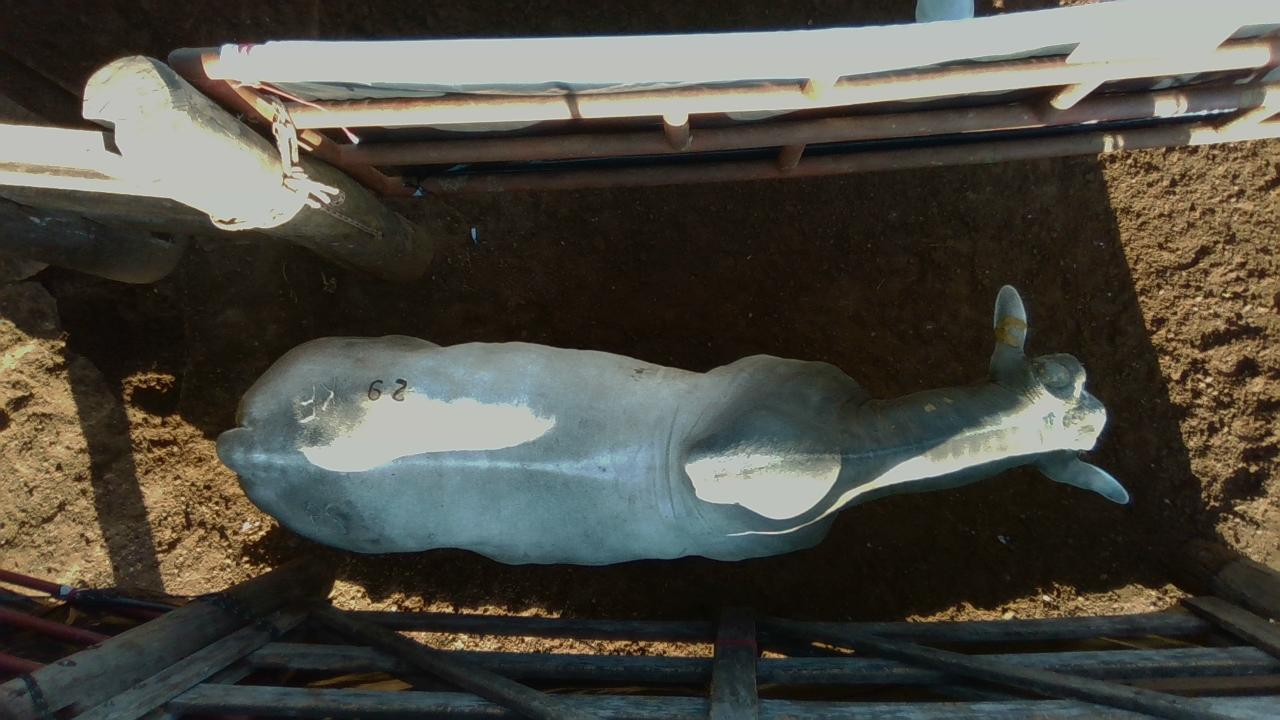cattle: (215, 283, 1132, 567)
